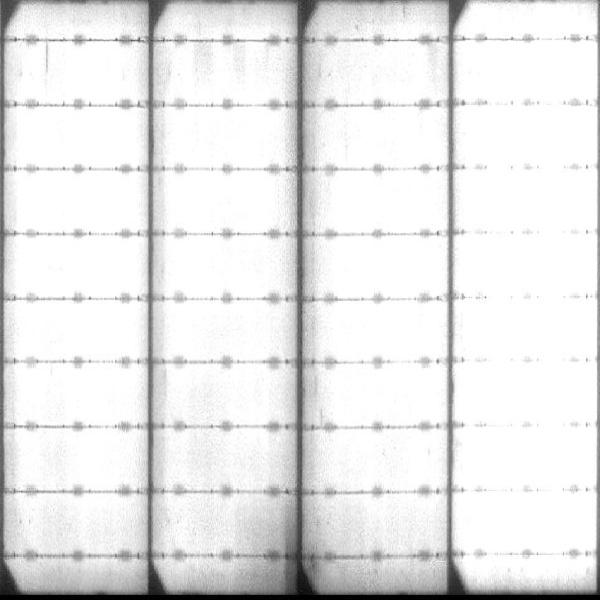hot_spot: (457, 364, 593, 419), (456, 303, 591, 356), (457, 496, 591, 548), (466, 170, 590, 225), (465, 42, 586, 96), (462, 434, 585, 485), (465, 107, 590, 157), (461, 238, 587, 286), (24, 111, 139, 162), (28, 436, 140, 484), (24, 244, 138, 291), (165, 240, 275, 288), (170, 116, 282, 162), (332, 242, 437, 291), (331, 305, 437, 353), (326, 441, 436, 487), (180, 436, 281, 485), (337, 178, 438, 227), (23, 377, 137, 420), (173, 177, 275, 225), (329, 373, 434, 419), (177, 370, 274, 418), (30, 182, 133, 227), (175, 308, 276, 353), (347, 114, 440, 162), (35, 503, 138, 546), (36, 315, 130, 355), (56, 52, 120, 99), (364, 502, 430, 534)
